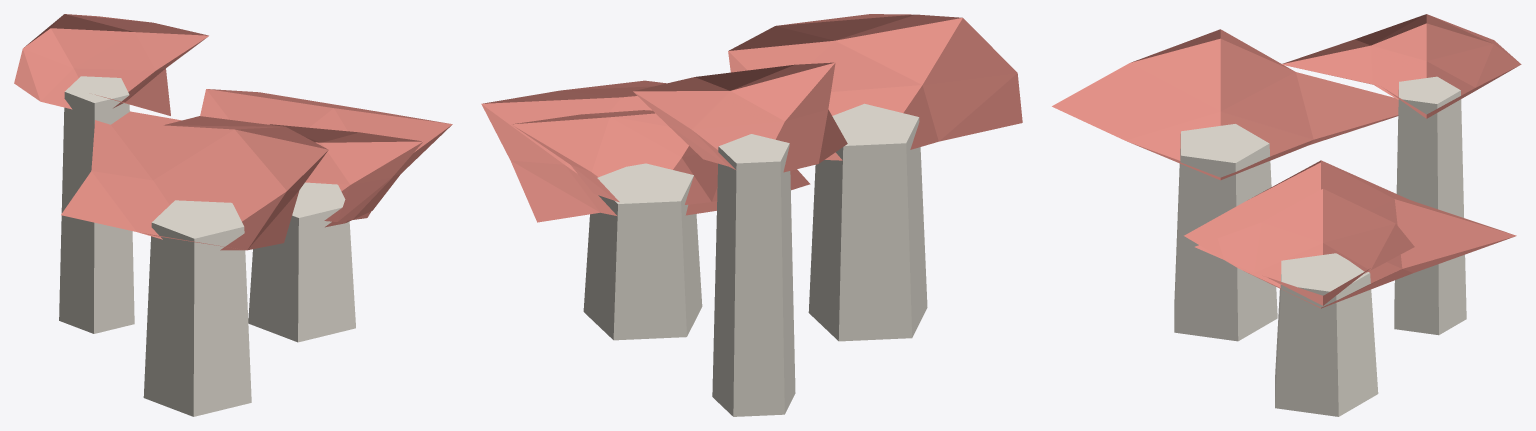
Rendered from mushroom_v22.glb.
3 renders of one model, left to right at view 1: azimuth 30°, elevation 25°; view 2: azimuth 150°, elevation 25°; view 3: azimuth 270°, elevation 25°, orthographic. The views are drawn at different scales.
Visible parts, largest first — view 1: lod0; view 2: lod0; view 3: lod0.
Part boxes in pixels (left/top/right/bottom): lod0: left=14, top=14, right=452, bottom=416; lod0: left=481, top=14, right=1022, bottom=416; lod0: left=1052, top=14, right=1521, bottom=416.
Size of what is drawn, in the model's own units: 0.6888 by 0.4479 by 0.6331.
